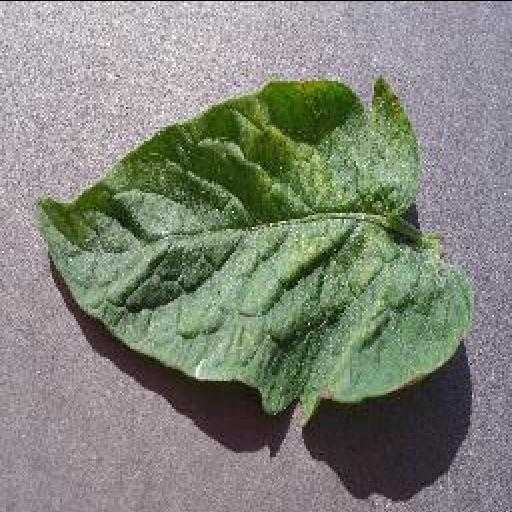disease_tomato: (32, 74, 476, 404)
